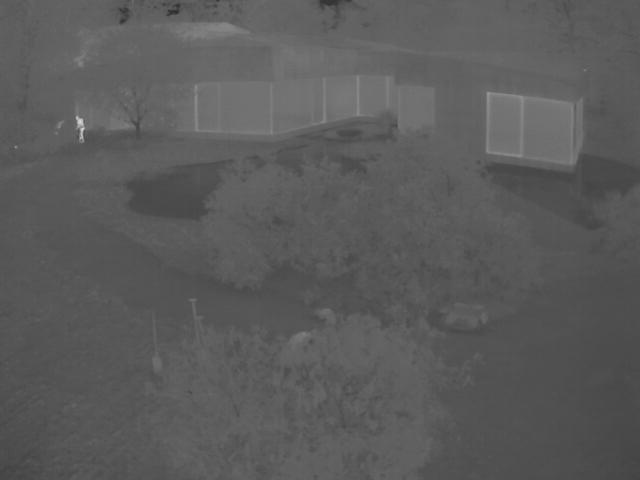person: (73, 116, 87, 144)
